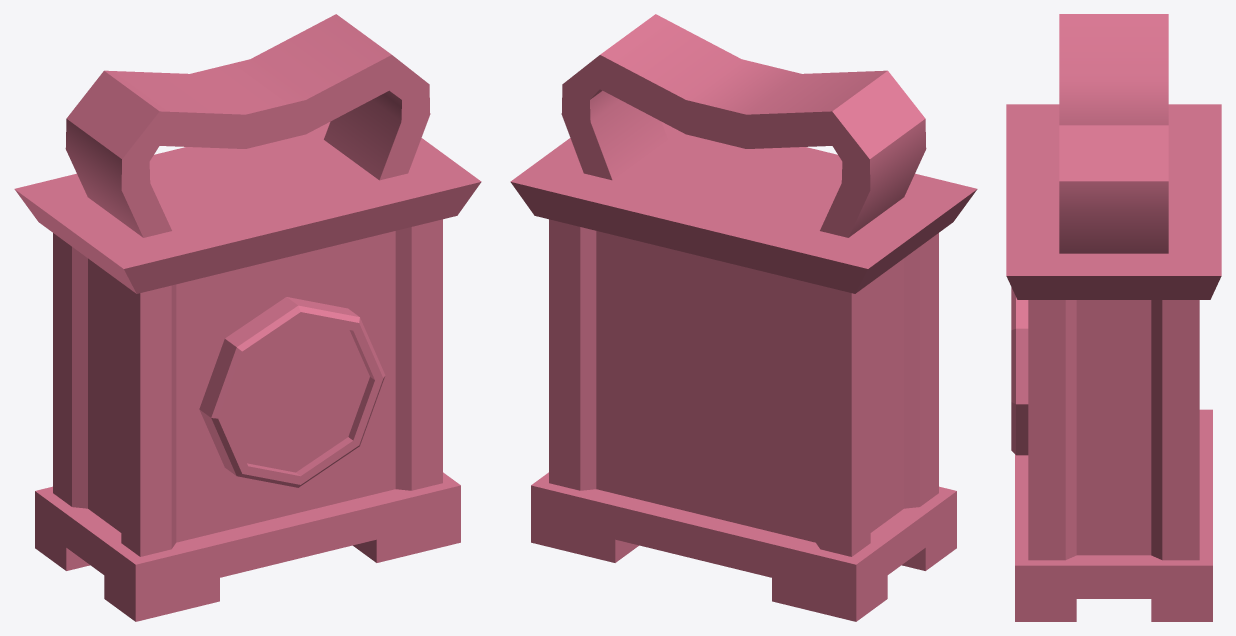
File: Alarm Clock.FBX
The picture shows the model from 3 angles, left to right: view 1: azimuth 30°, elevation 25°; view 2: azimuth 150°, elevation 25°; view 3: azimuth 270°, elevation 25°; orthographic projection.
Parts seen in each view (by area): view 1: AlarmClock; view 2: AlarmClock; view 3: AlarmClock.
Boxes of the visible parts, x1,y1,x2,y2 form: AlarmClock: (14,14,481,621); AlarmClock: (510,14,977,621); AlarmClock: (1006,14,1221,621).
Size of the model in its own units: 86.33 by 111 by 45.77.
